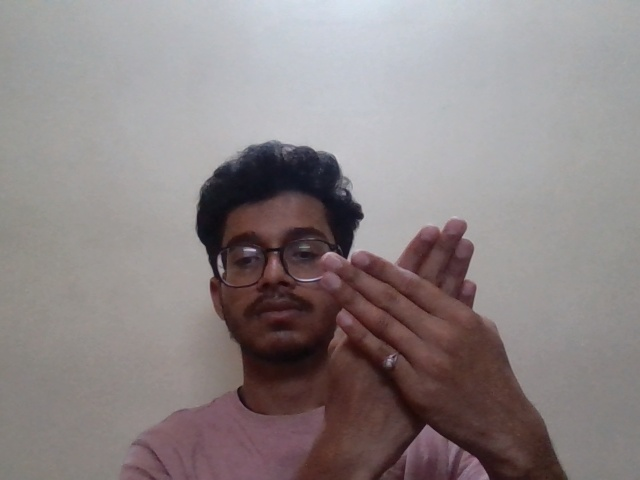what: (309, 216, 526, 415)
